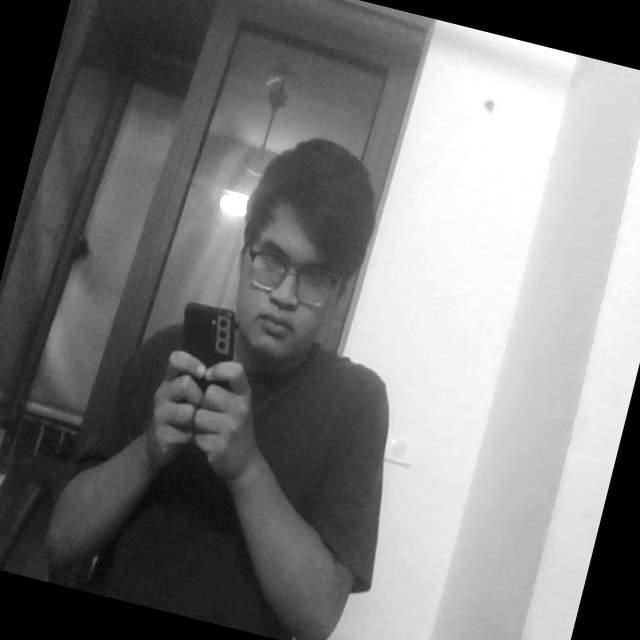phone: (151, 284, 255, 422)
